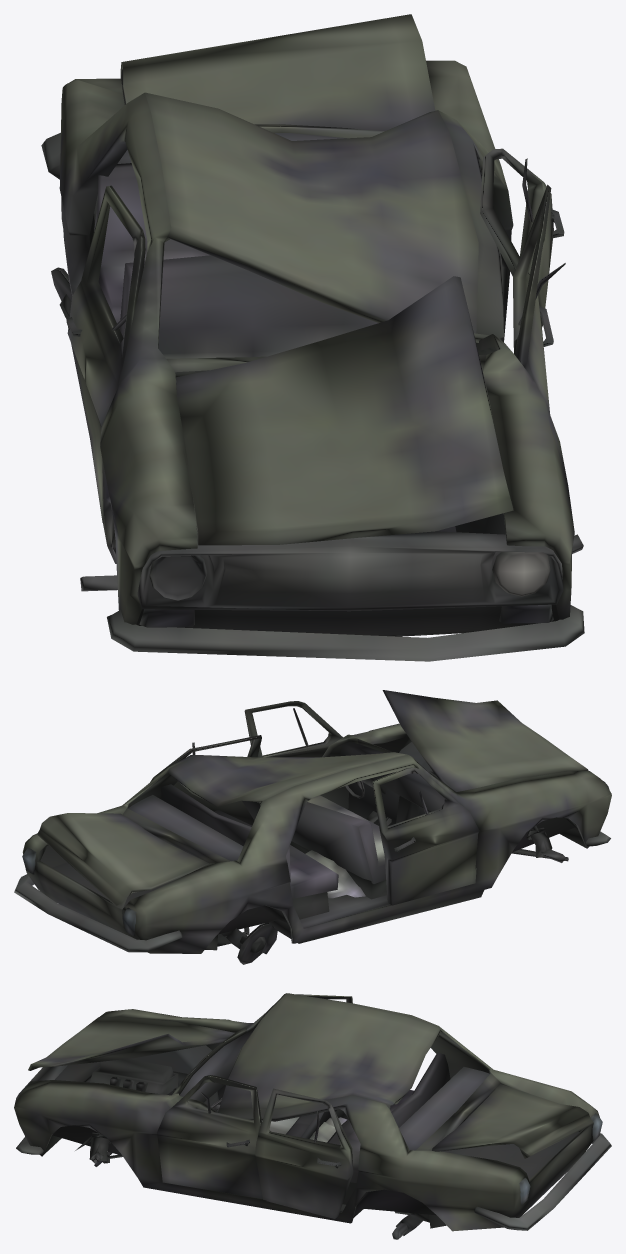
File: Damaged Car.fbx
The picture shows the model from 3 angles, top to bottom: view 1: azimuth 30°, elevation 25°; view 2: azimuth 150°, elevation 25°; view 3: azimuth 270°, elevation 25°; orthographic projection. The views are drawn at different scales.
Visible parts, largest first — view 1: Damaged Car; view 2: Damaged Car; view 3: Damaged Car.
Boxes of the visible parts, x1,y1,x2,y2 form: Damaged Car: (41, 14, 584, 661); Damaged Car: (14, 690, 611, 964); Damaged Car: (14, 993, 611, 1239).
Bounding box in the file's own units: 511 × 191 × 700.
1 material, 1 textured.
